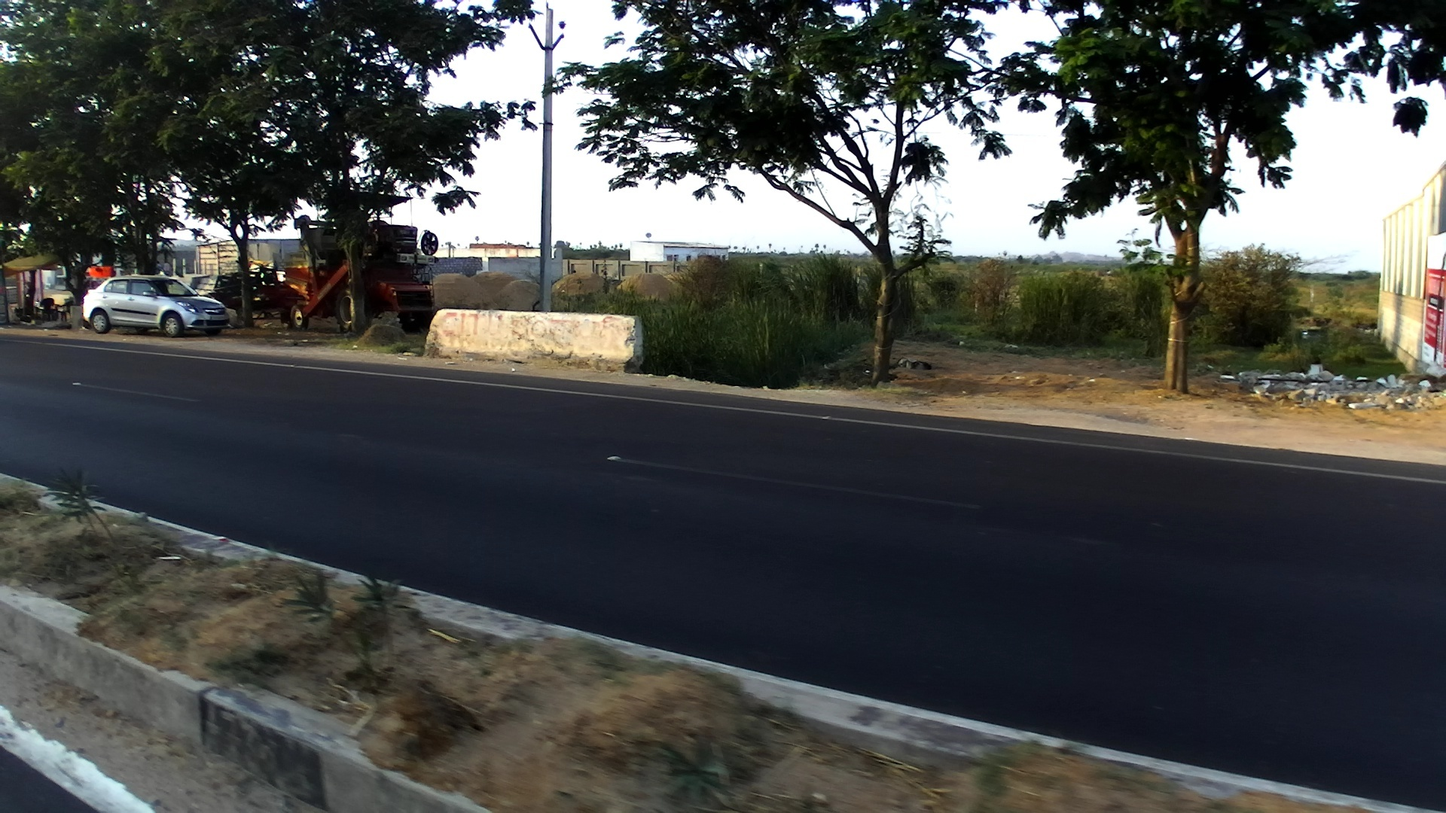car: (81, 272, 230, 344)
vehicle fallback: (281, 222, 435, 337), (214, 263, 283, 327)
